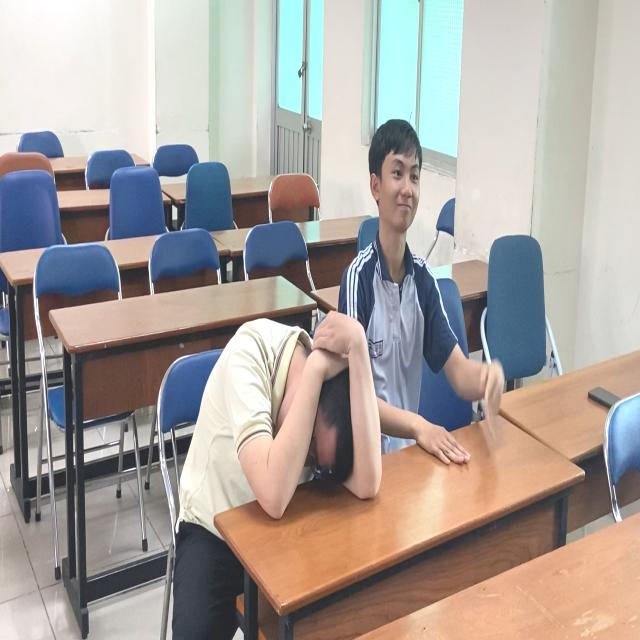sleep: (163, 305, 385, 547)
